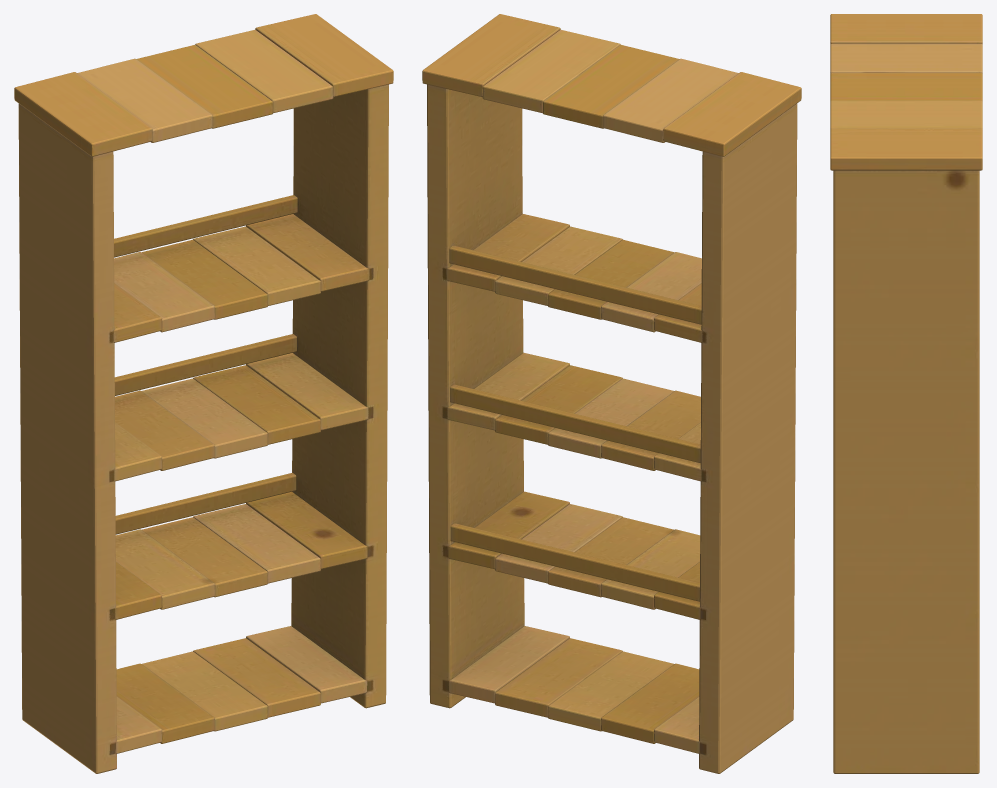
Rendered from shelfwall-bay-a.glb.
3 renders of one model, left to right at view 1: azimuth 30°, elevation 25°; view 2: azimuth 150°, elevation 25°; view 3: azimuth 270°, elevation 25°, orthographic. The views are drawn at different scales.
Visible parts, largest first — view 1: case-baked; view 2: case-baked; view 3: case-baked.
Part boxes in pixels (bbox=[...]): case-baked: bbox=[14, 14, 393, 773]; case-baked: bbox=[422, 14, 801, 773]; case-baked: bbox=[830, 14, 982, 773].
Size of the model in its own units: 1.05 by 2.1 by 0.4681.
1 material, 1 textured.
